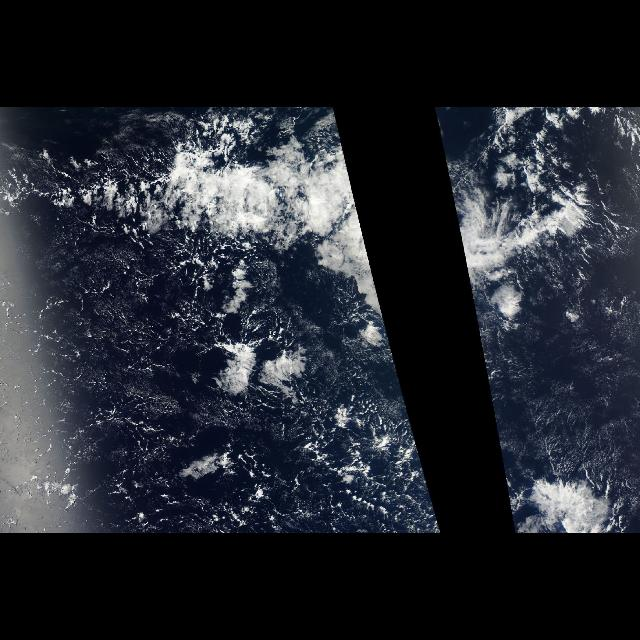Flower: (204, 324, 330, 412)
Gravel: (46, 246, 202, 508)
Sugar: (5, 240, 217, 522), (483, 298, 639, 490)
